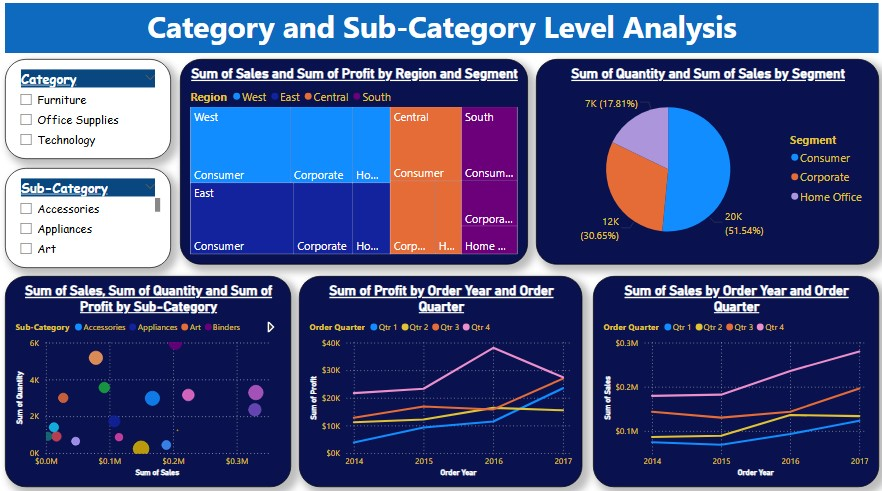

The page's visual inventory and layout, read from the dashboard file:
{"tool":"powerbi","page":{"name":"Category and Sub Category Level Analysis","canvas":[1280,720],"ordinal":2},"visuals":[{"type":"textbox","box":[10.1,11.8,1258.2,72.2],"z":0},{"type":"slicer","fields":{"Values":["Superstore.Category"]},"box":[10.1,92.4,238.5,144.5],"z":1000},{"type":"slicer","fields":{"Values":["Superstore.Sub-Category"]},"box":[10.1,248.6,238.5,144.5],"z":2000},{"type":"treemap","fields":{"Group":["Superstore.Region"],"Details":["Superstore.Segment"],"Values":["Sum(Superstore.Sales)"]},"box":[262,92.4,500.6,295.6],"z":3000},{"type":"pieChart","fields":{"Category":["Superstore.Segment"],"Y":["Sum(Superstore.Quantity)"]},"box":[774.4,92.4,493.9,295.6],"z":4000},{"type":"scatterChart","fields":{"X":["Sum(Superstore.Sales)"],"Series":["Superstore.Sub-Category"],"Y":["Sum(Superstore.Quantity)"],"Size":["Sum(Superstore.Profit)"]},"box":[10.1,404.8,411.5,304],"z":5000},{"type":"lineChart","fields":{"Category":["Superstore.Order Year"],"Y":["Sum(Superstore.Profit)"],"Series":["Superstore.Order Quarter"]},"box":[433.4,404.8,408.2,304],"z":6000},{"type":"lineChart","fields":{"Category":["Superstore.Order Year"],"Series":["Superstore.Order Quarter"],"Y":["Sum(Superstore.Sales)"]},"box":[856.7,404.8,411.5,304],"z":7000}]}

Visuals, with their boxes in screenshot pixels (x1, y1, x2, y2), scaled from the page's 1280x720 canvas onto the 882x491 screenshot:
textbox: crop(7, 8, 874, 57)
slicer - Superstore.Category: crop(7, 63, 171, 162)
slicer - Superstore.Sub-Category: crop(7, 170, 171, 268)
treemap - Superstore.Region x Superstore.Segment: crop(181, 63, 525, 265)
pieChart - Superstore.Segment x Sum(Superstore.Quantity): crop(534, 63, 874, 265)
scatterChart - Sum(Superstore.Sales) x Superstore.Sub-Category: crop(7, 276, 291, 483)
lineChart - Superstore.Order Year x Sum(Superstore.Profit): crop(299, 276, 580, 483)
lineChart - Superstore.Order Year x Superstore.Order Quarter: crop(590, 276, 874, 483)
